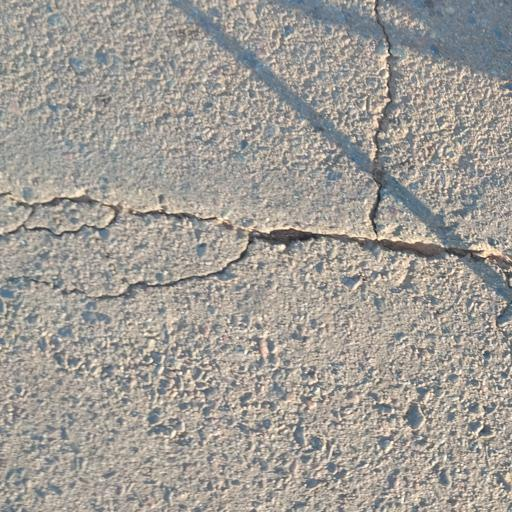GRIETA: (0, 192, 511, 280), (0, 238, 255, 337), (371, 0, 394, 226), (0, 214, 118, 237)
